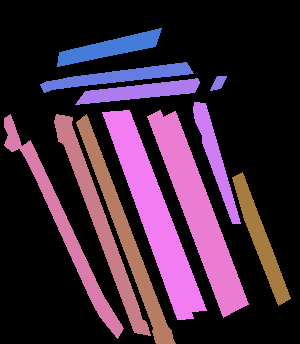parkingspot: (76, 114, 175, 344), (54, 114, 150, 335), (19, 140, 123, 338), (102, 111, 193, 319), (147, 110, 235, 317), (116, 110, 206, 311), (162, 111, 248, 310), (232, 172, 290, 305), (193, 102, 240, 223), (40, 62, 193, 92), (75, 78, 199, 104), (57, 40, 110, 66), (108, 28, 161, 48), (105, 37, 158, 56), (4, 114, 21, 151), (210, 76, 226, 90)
